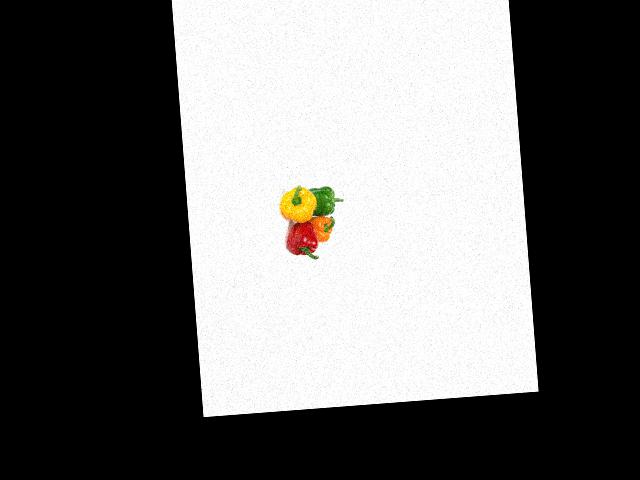bell_pepper: (277, 181, 318, 225)
